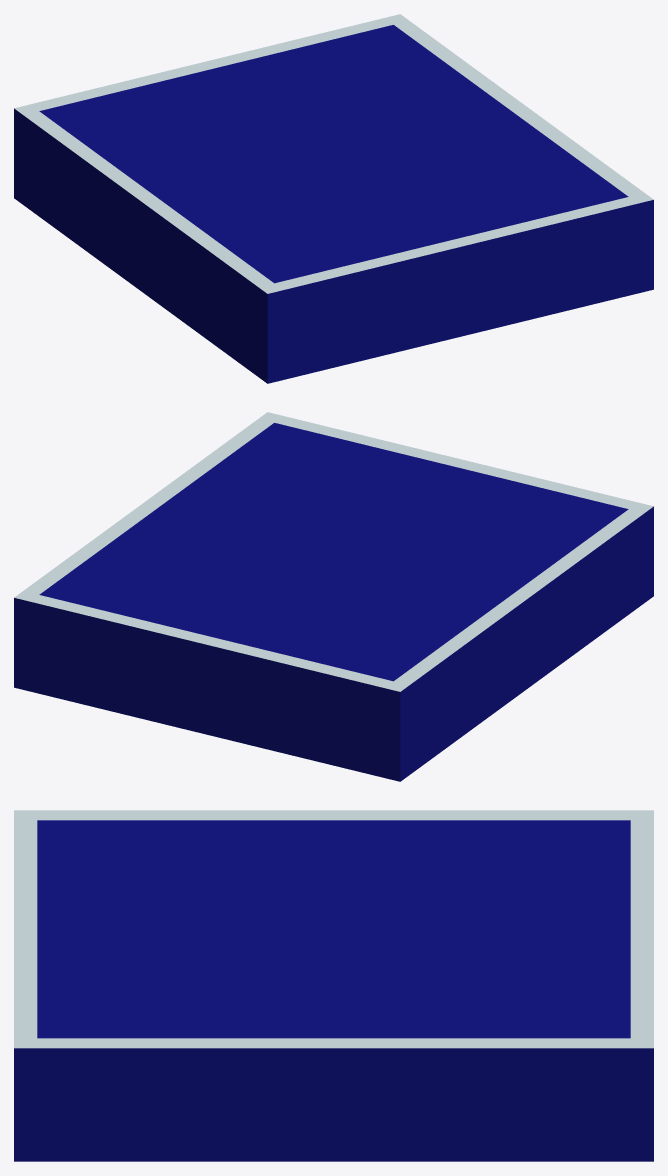
File: BlueBlock01.fbx
The picture shows the model from 3 angles, top to bottom: view 1: azimuth 30°, elevation 25°; view 2: azimuth 150°, elevation 25°; view 3: azimuth 270°, elevation 25°; orthographic projection. The views are drawn at different scales.
Visible parts, largest first — view 1: BlueBlock; view 2: BlueBlock; view 3: BlueBlock.
Boxes of the visible parts, x1,y1,x2,y2 form: BlueBlock: (14,14,653,383); BlueBlock: (14,412,653,781); BlueBlock: (14,810,653,1161).
Bounding box in the file's own units: 202 × 44.98 × 230.
